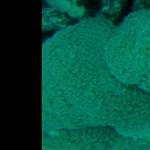alive: (44, 3, 146, 146)
